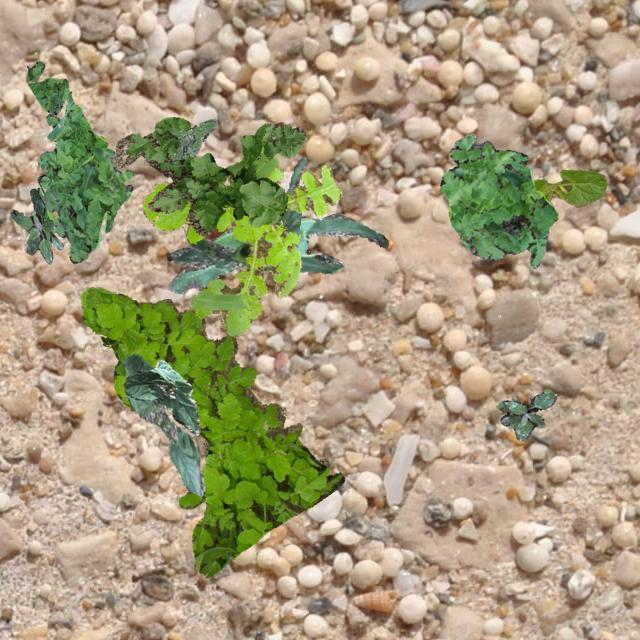crop: (168, 212, 386, 292), (166, 156, 306, 270), (123, 352, 205, 496), (123, 358, 200, 434), (532, 168, 606, 206)
weed: (80, 286, 343, 576), (142, 140, 340, 336), (112, 116, 304, 236), (438, 132, 556, 268), (41, 146, 132, 262), (36, 88, 106, 222), (10, 188, 62, 262), (496, 388, 556, 440), (27, 60, 68, 114), (170, 119, 217, 162), (125, 183, 132, 190)
